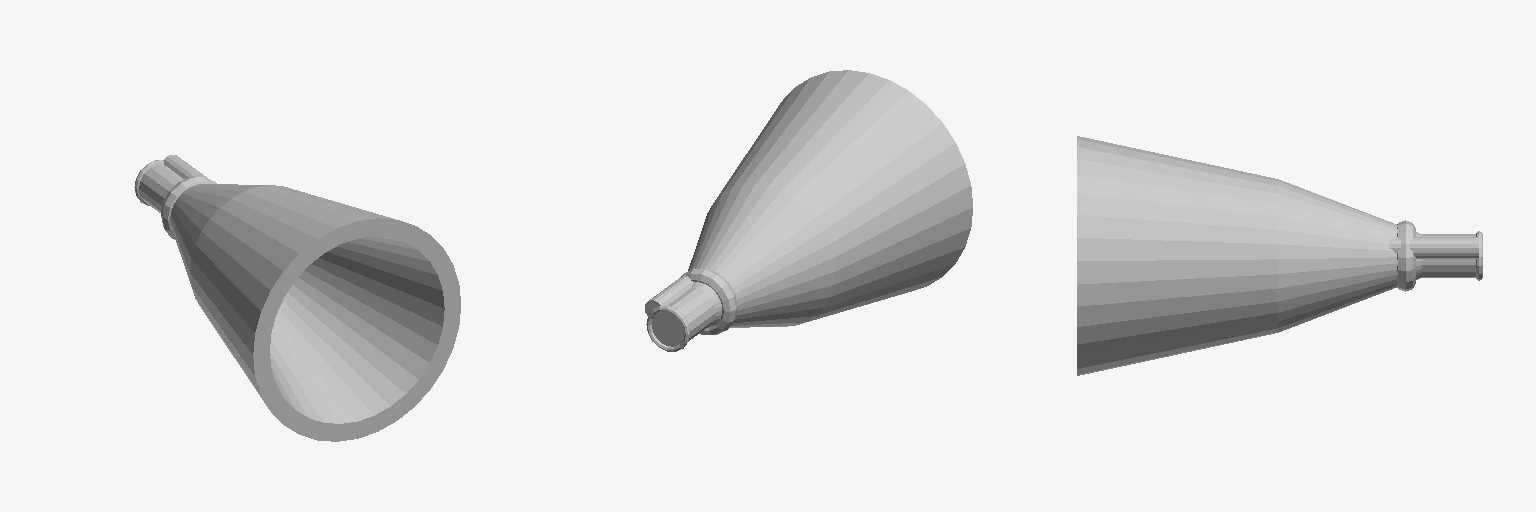
Rendered from MerlinVacuum.obj.
The picture shows the model from 3 angles: view 1: azimuth 30°, elevation 25°; view 2: azimuth 150°, elevation 25°; view 3: azimuth 270°, elevation 25°; orthographic projection.
Parts seen in each view (by area): view 1: cone1; view 2: cone1; view 3: cone1.
Boxes of the visible parts, box(x1,y1,x2,y2) form: cone1: box(134, 155, 460, 441); cone1: box(645, 70, 972, 351); cone1: box(1077, 136, 1482, 375).
Bounding box in the file's own units: 2.97 × 2.97 × 5.01.